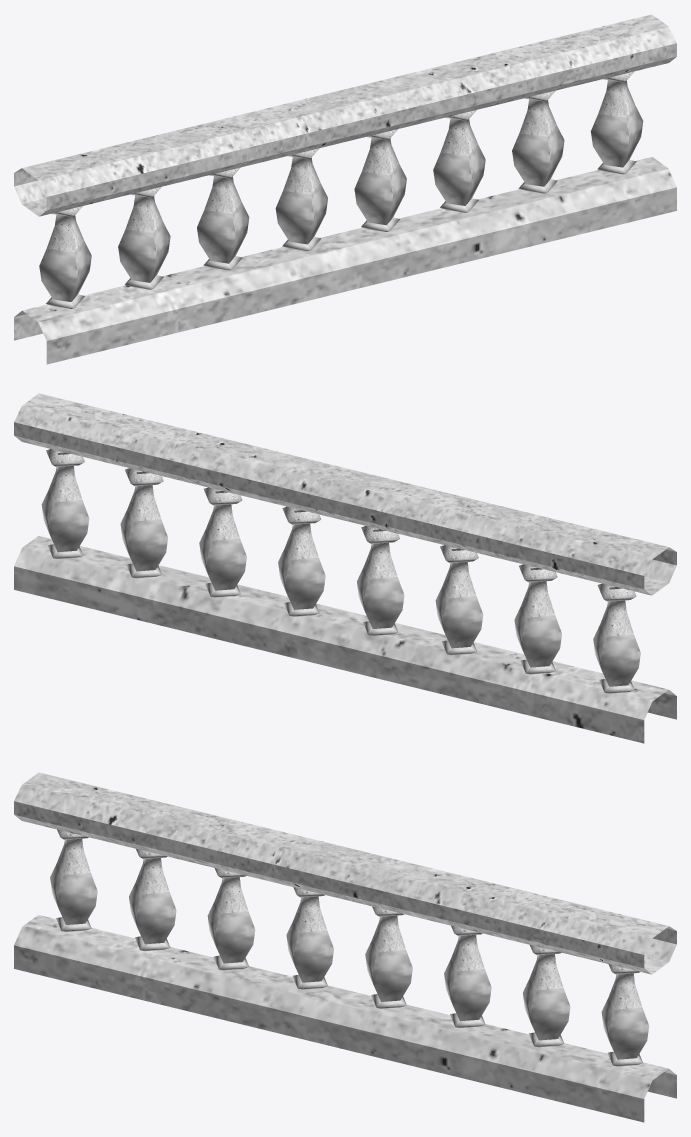
Rendered from Railing_01.glb.
3 views of the same model, one above another, from view 1: azimuth 30°, elevation 25°; view 2: azimuth 150°, elevation 25°; view 3: azimuth 330°, elevation 25° (orthographic).
Visible parts, largest first — view 1: Railing_01; view 2: Railing_01; view 3: Railing_01.
Boxes of the visible parts, bbox=[...] form: Railing_01: bbox=[14, 14, 676, 364]; Railing_01: bbox=[14, 393, 676, 743]; Railing_01: bbox=[14, 772, 676, 1122].
Size of the model in its own units: 4 by 1.08 by 0.3849.
1 material, 1 textured.
